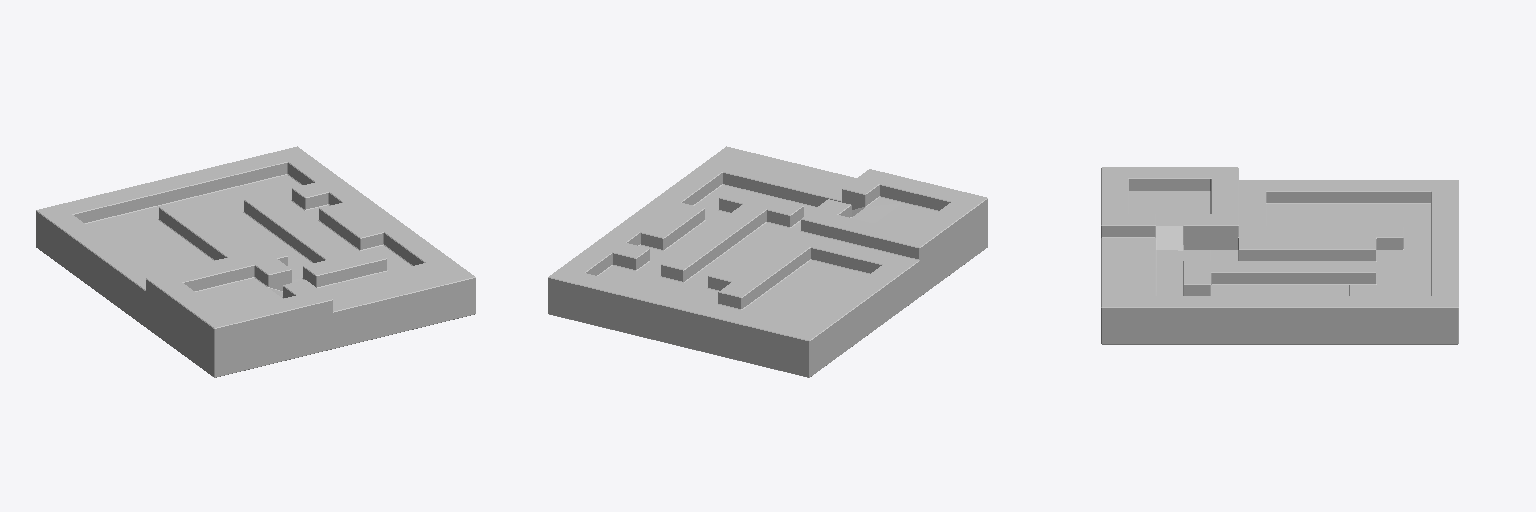
File: map_3.obj
3 renders of one model, left to right at view 1: azimuth 30°, elevation 25°; view 2: azimuth 150°, elevation 25°; view 3: azimuth 270°, elevation 25°, orthographic.
Parts seen in each view (by area): view 1: map_3; view 2: map_3; view 3: map_3.
Part boxes in pixels (x1,y1,x2,y2): map_3: (36, 146, 475, 377); map_3: (548, 146, 987, 377); map_3: (1101, 167, 1458, 344).
Bounding box in the file's own units: 11 × 2 × 13.